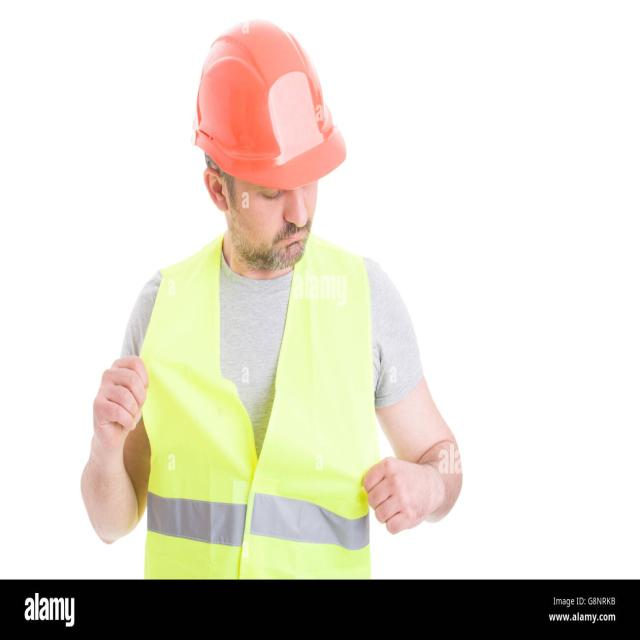helmet: (170, 17, 353, 197)
vest: (140, 238, 378, 579)
